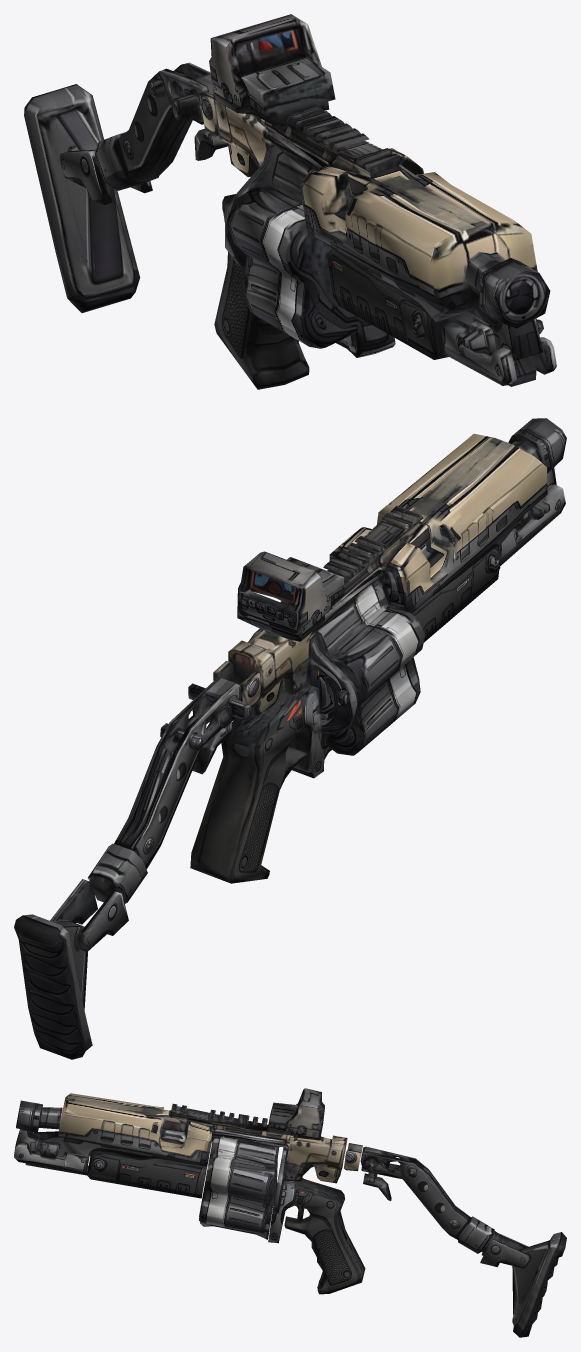
3 renders of one model, top to bottom at view 1: azimuth 30°, elevation 25°; view 2: azimuth 150°, elevation 25°; view 3: azimuth 270°, elevation 25°, orthographic. The views are drawn at different scales.
Parts seen in each view (by area): view 1: gun; view 2: gun; view 3: gun.
Part boxes in pixels (x1,y1,x2,y2): gun: [24, 14, 556, 389]; gun: [14, 418, 566, 1059]; gun: [14, 1088, 566, 1337].
Bounding box in the file's own units: 1.33 × 3.54 × 7.8.
1 material, 1 textured.
